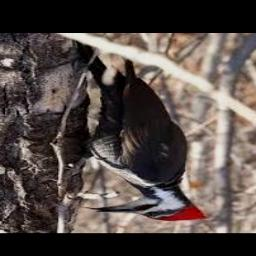Woodpecker: (81, 41, 207, 221)
